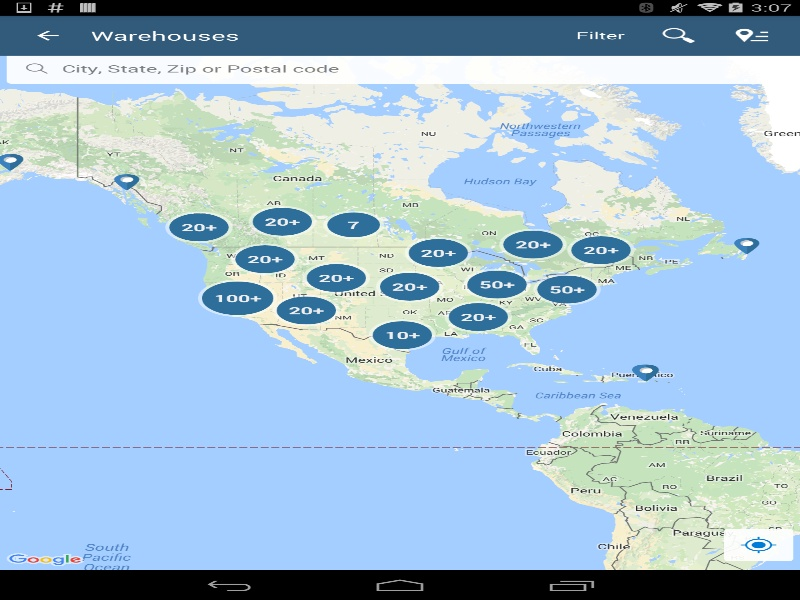Button: (6, 163, 793, 193), (10, 15, 85, 55), (724, 528, 793, 561)
Input: (6, 25, 729, 39)
